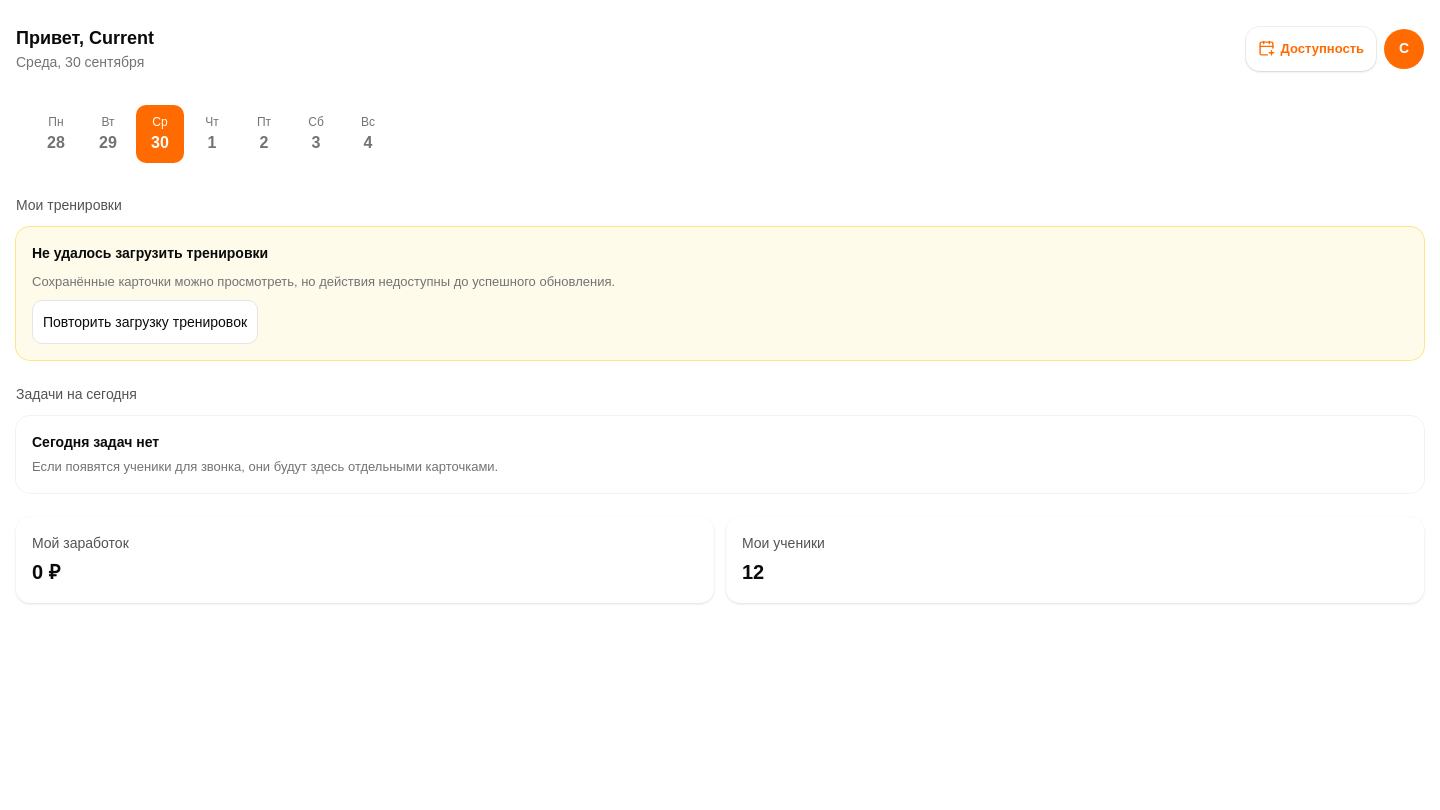
Test: ScheduleHome › shows schedule failure instead of an honest empty state and recovers through retry
This screenshot has width=1440, height=810.
Expected: the text "Не удалось загрузить тренировки" is shown, [32,245,268,261]
Expected: the text "Сегодня нет тренировок" is not shown
Click the button "Повторить загрузку тренировок".
click(145, 322)  # box [32,300,258,344]
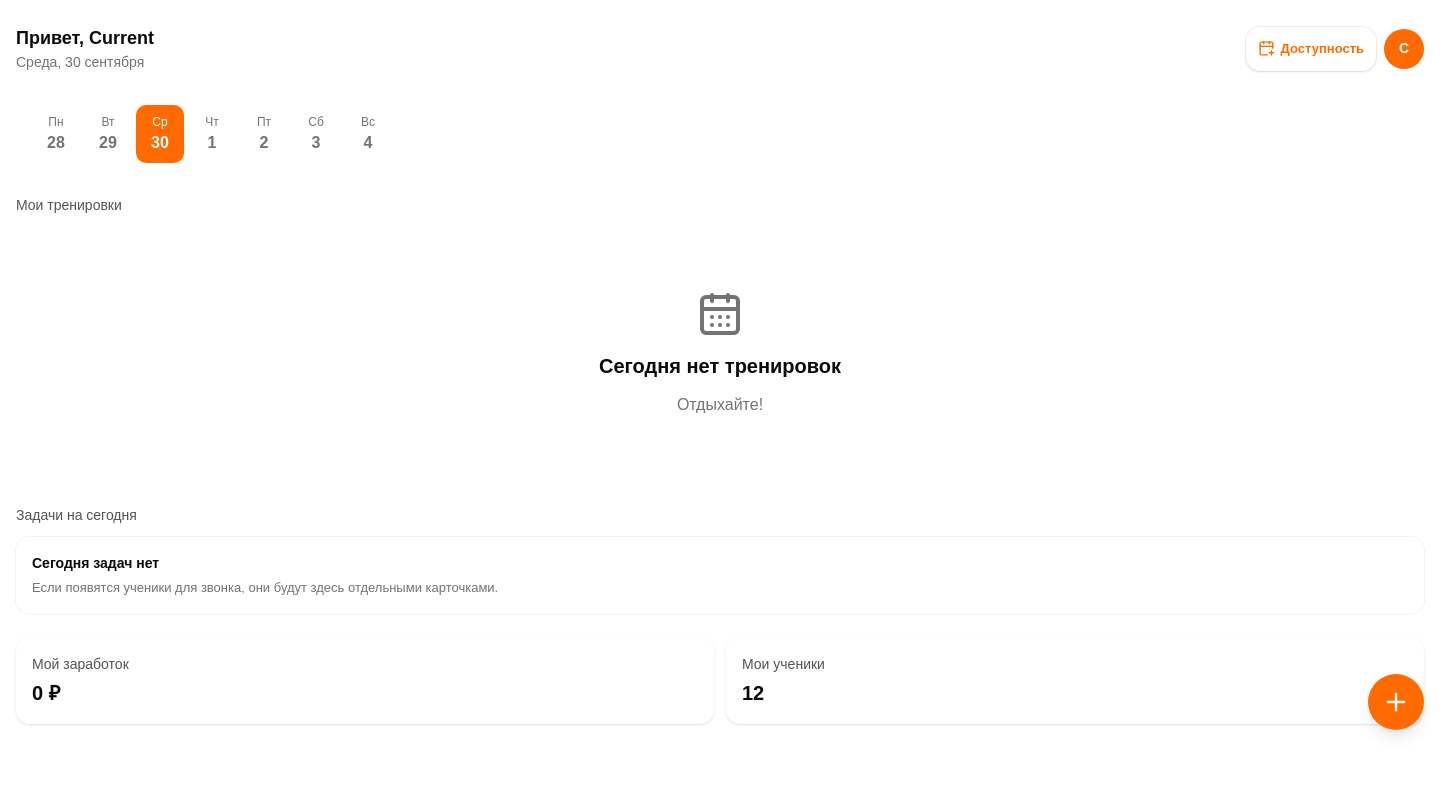
Expected: the text "Сегодня нет тренировок" is shown, [599,351,841,381]
